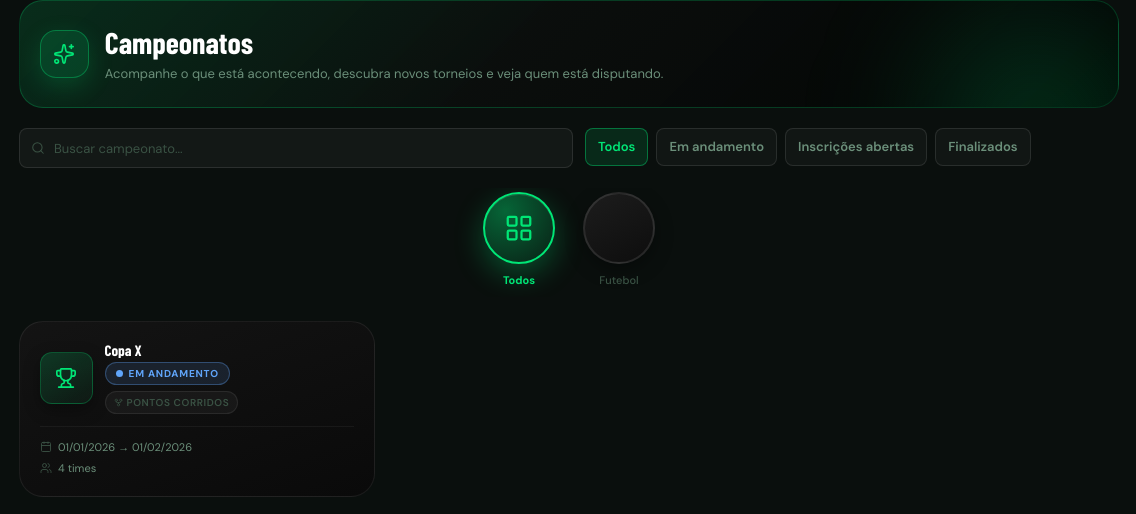
Test: /campeonatos: busca e filtros › limpa a busca ao clicar no botao de limpar
The image size is (1136, 514).
Expected: the heading "Copa X" is shown, [104,340,142,358]
Step 1. Type "zzz" into the field with placeholder "Buscar campeonato..." → (296, 148), box [19,128,573,168]
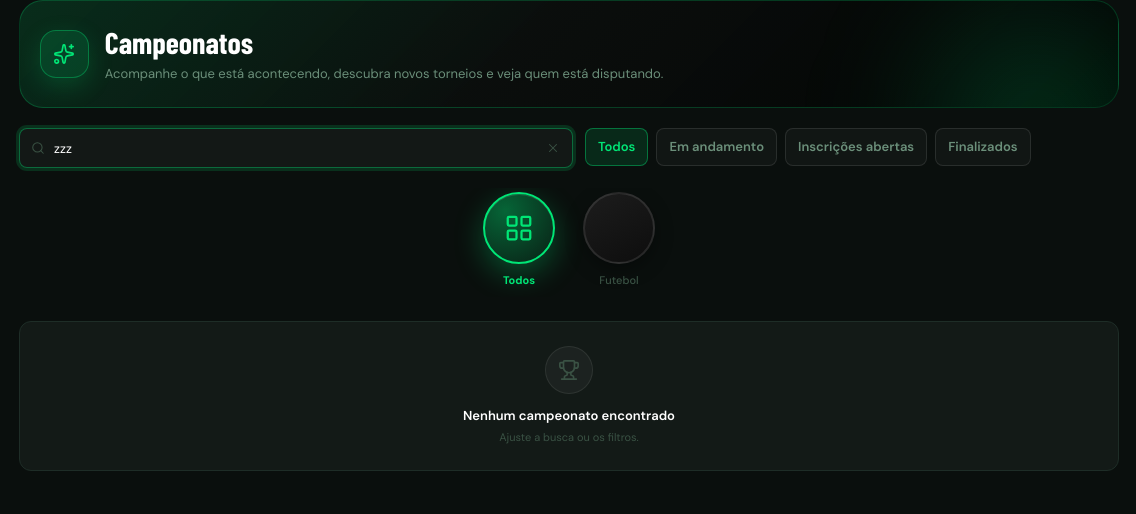
Expected: the link "Copa X" is gone
Step 2. Click the button named "Limpar busca" → (553, 148), box [541,136,565,160]
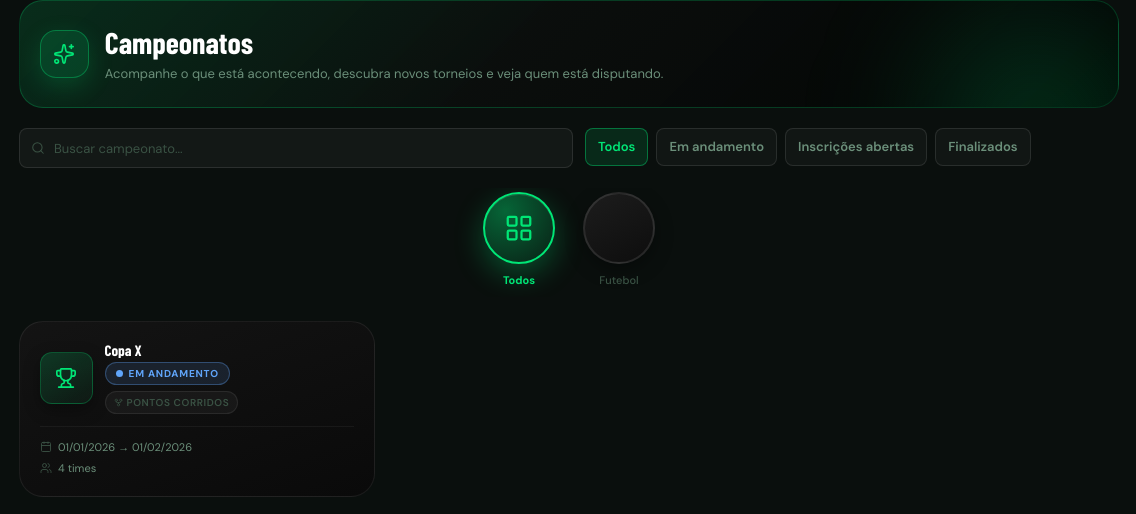
Expected: the heading "Copa X" is shown, [104,340,142,358]
